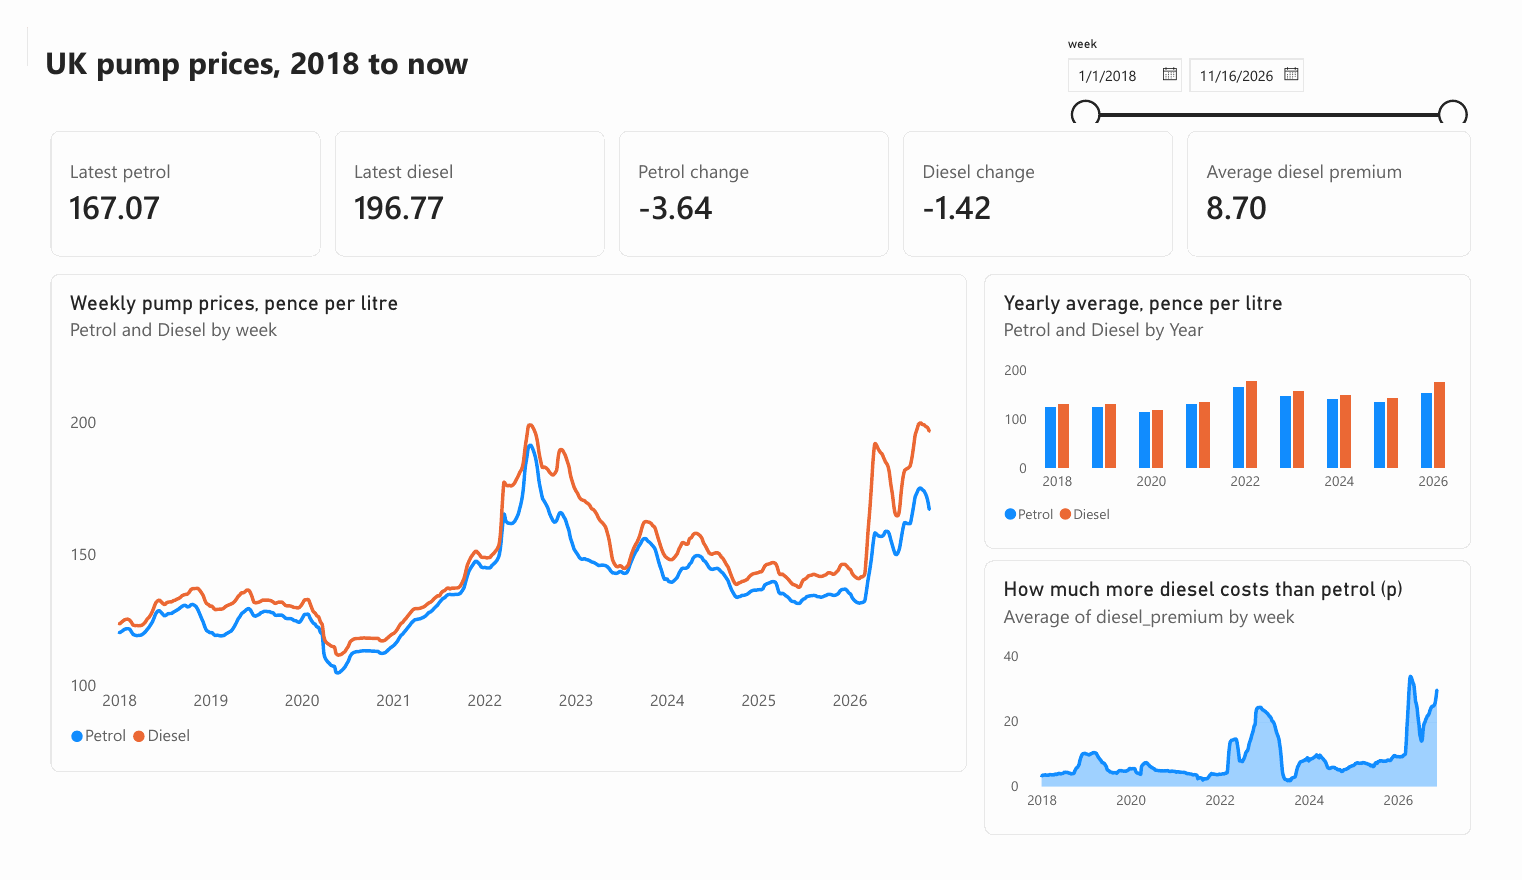

The dashboard page shown, as its layout file describes it:
{"tool":"powerbi","page":{"name":"Page 1","canvas":[1280,720],"ordinal":0},"visuals":[{"type":"cardVisual","fields":{"Data":["Prices.Latest petrol"]},"box":[20,90,236,110],"z":0},{"type":"cardVisual","fields":{"Data":["Prices.Latest diesel"]},"box":[268,90,236,110],"z":1},{"type":"cardVisual","fields":{"Data":["Prices.Petrol change"]},"box":[516,90,236,110],"z":2},{"type":"cardVisual","fields":{"Data":["Prices.Diesel change"]},"box":[764,90,236,110],"z":3},{"type":"cardVisual","fields":{"Data":["Prices.Average diesel premium"]},"box":[1012,90,248,110],"z":4},{"type":"lineChart","title":"Weekly pump prices, pence per litre","fields":{"Category":["Prices.week"],"Y":["Avg(Prices.petrol_pence)","Avg(Prices.diesel_pence)"]},"box":[20,215,800,435],"z":5},{"type":"clusteredColumnChart","title":"Yearly average, pence per litre","fields":{"Category":["Prices.Year"],"Y":["Avg(Prices.petrol_pence)","Avg(Prices.diesel_pence)"]},"box":[835,215,425,240],"z":6},{"type":"areaChart","title":"How much more diesel costs than petrol (p)","fields":{"Category":["Prices.week"],"Y":["Avg(Prices.diesel_premium)"]},"box":[835,465,425,240],"z":7},{"type":"slicer","fields":{"Values":["Prices.week"]},"box":[900,8,360,75],"z":8},{"type":"textbox","box":[16,12,860,60],"z":9}]}

Visuals, with their boxes in screenshot pixels (x1, y1, x2, y2), scaled from the page's 1280x720 canvas onto the 1522x880 screenshot:
cardVisual - Prices.Latest petrol: {"x1": 24, "y1": 110, "x2": 304, "y2": 244}
cardVisual - Prices.Latest diesel: {"x1": 319, "y1": 110, "x2": 599, "y2": 244}
cardVisual - Prices.Petrol change: {"x1": 614, "y1": 110, "x2": 894, "y2": 244}
cardVisual - Prices.Diesel change: {"x1": 908, "y1": 110, "x2": 1189, "y2": 244}
cardVisual - Prices.Average diesel premium: {"x1": 1203, "y1": 110, "x2": 1498, "y2": 244}
"Weekly pump prices, pence per litre" lineChart: {"x1": 24, "y1": 263, "x2": 975, "y2": 794}
"Yearly average, pence per litre" clusteredColumnChart: {"x1": 993, "y1": 263, "x2": 1498, "y2": 556}
"How much more diesel costs than petrol (p)" areaChart: {"x1": 993, "y1": 568, "x2": 1498, "y2": 862}
slicer - Prices.week: {"x1": 1070, "y1": 10, "x2": 1498, "y2": 101}
textbox: {"x1": 19, "y1": 15, "x2": 1042, "y2": 88}
